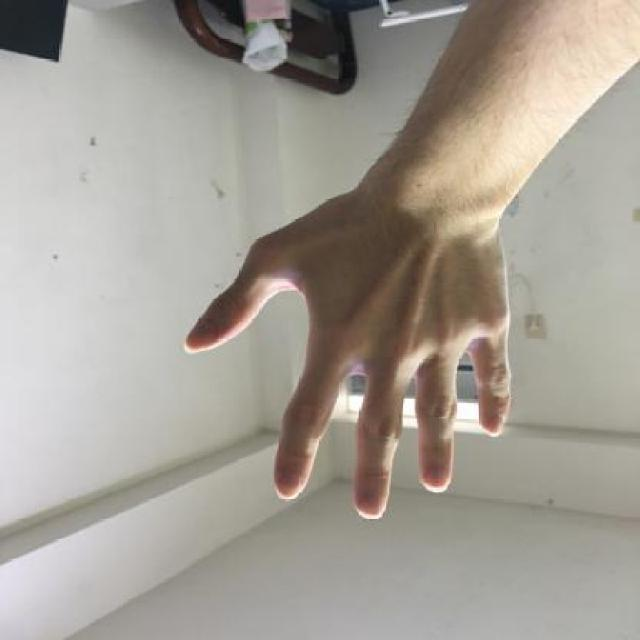bare_hand: (170, 165, 526, 530)
